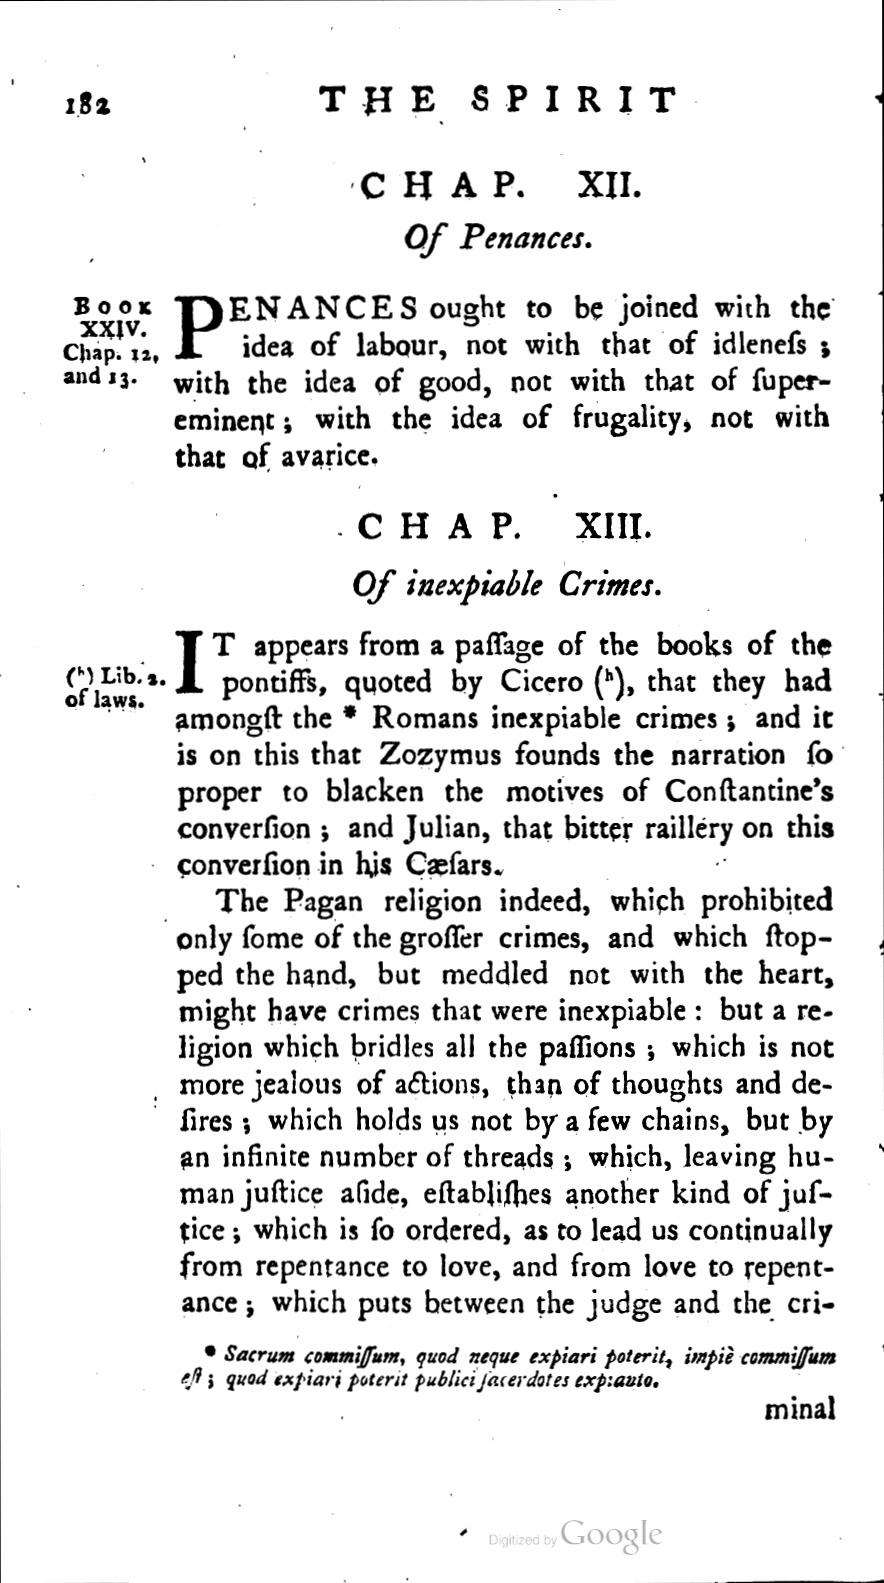catchword: (762, 1393, 838, 1423)
footnotes: (177, 1342, 839, 1393)
full_p: (171, 626, 837, 878), (170, 291, 835, 472), (351, 565, 663, 607), (353, 506, 653, 546), (357, 166, 644, 203), (401, 220, 594, 261)
header: (314, 82, 680, 120)
initial_l: (173, 292, 225, 361), (173, 627, 208, 697)
page_num: (60, 88, 114, 121)
print_marg: (59, 294, 162, 391), (62, 663, 167, 712)
top_p: (172, 884, 839, 1324)
